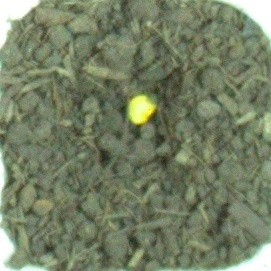pepper seed: (47, 31, 205, 158)
